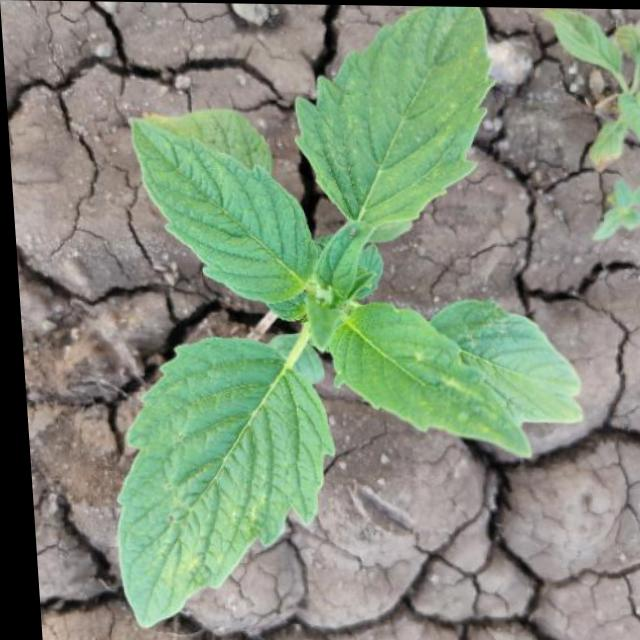crop: (22, 25, 599, 601)
